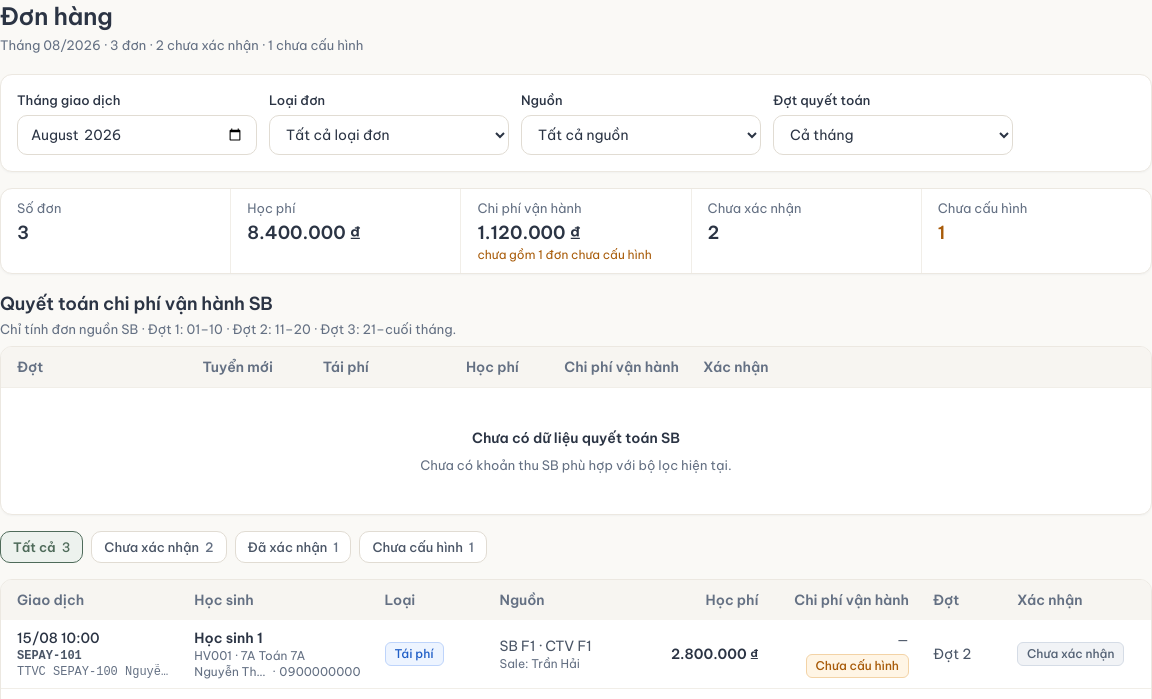
Test: Finance Orders list (step 14c) › filters the loaded month with local review chips, hides zero chips and resets the page
expect the button named "Tất cả3" is shown: met, box [0,531,83,563]
expect the button named "Chưa xác nhận2" is shown: met, box [91,531,226,563]
Step 1. Click the button named "Đã xác nhận1" → click(293, 547), box [235,531,352,563]
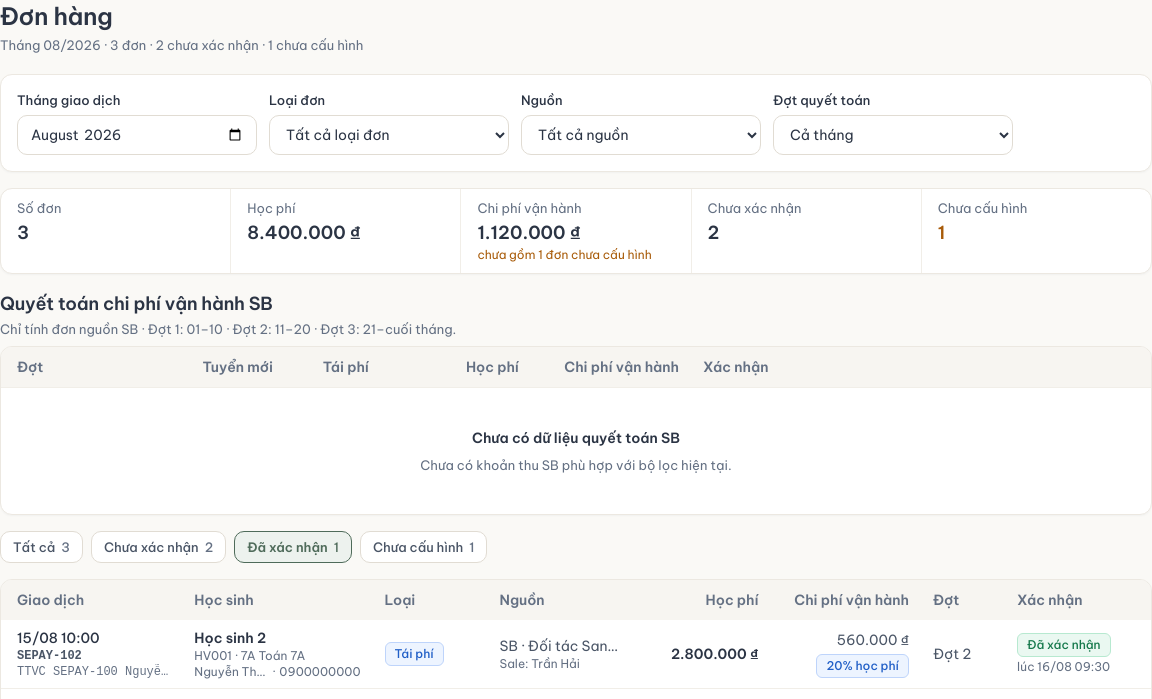
expect the row that starts with "SEPAY-102" shows "Học sinh 2": met, box [194,629,266,647]
Step 2. Click the button named "Chưa cấu hình1" → click(424, 547), box [360,531,488,563]
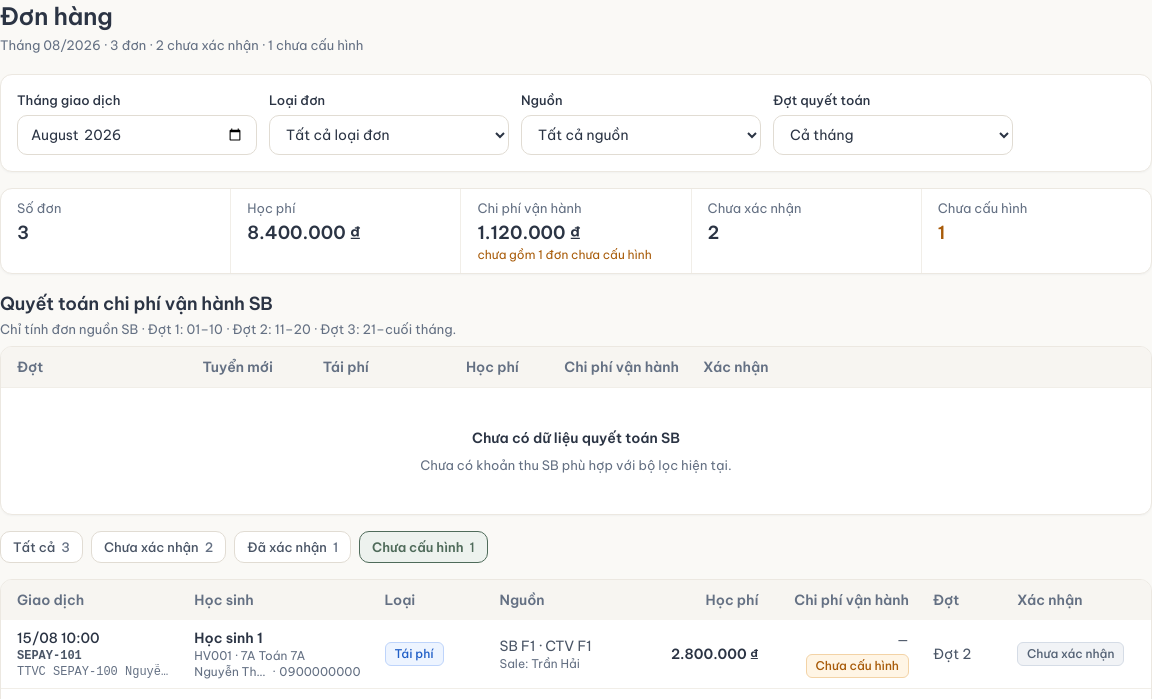
expect the row that starts with "SEPAY-101" shows "Học sinh 1": met, box [194,629,263,647]
